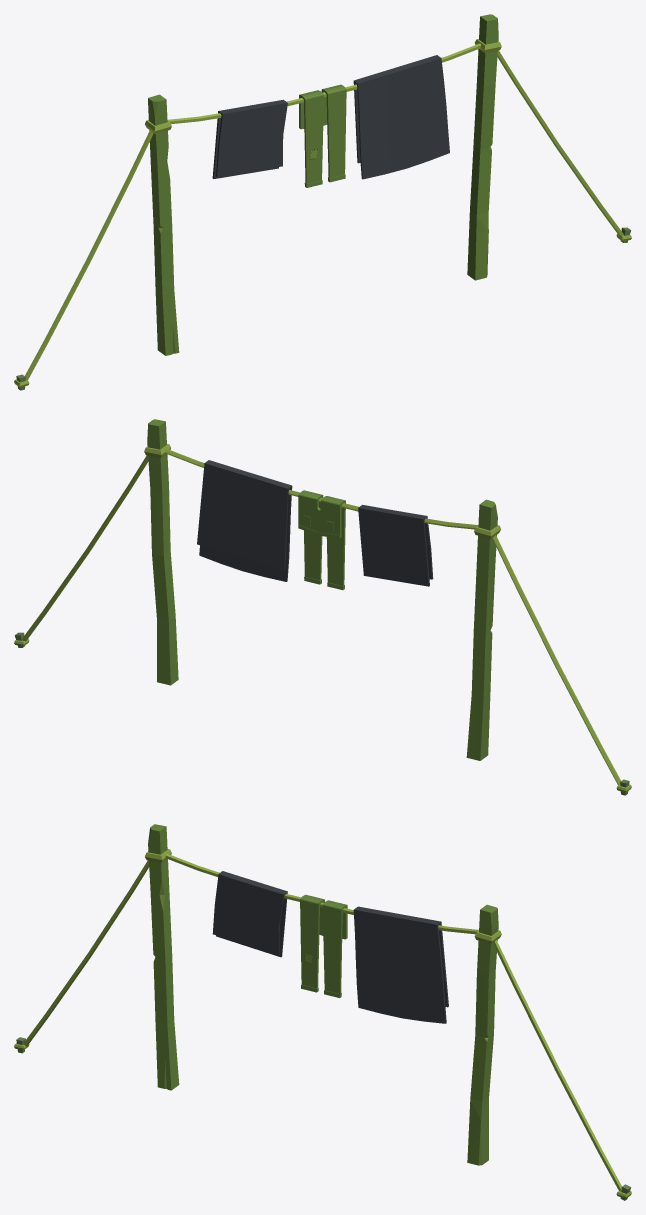
File: Dryer_01.fbx
3 views of the same model, one above another, from view 1: azimuth 30°, elevation 25°; view 2: azimuth 150°, elevation 25°; view 3: azimuth 330°, elevation 25° (orthographic).
Visible parts, largest first — view 1: Dryer_01; view 2: Dryer_01; view 3: Dryer_01.
Boxes of the visible parts, bbox=[...] form: Dryer_01: bbox=[14, 14, 631, 390]; Dryer_01: bbox=[14, 419, 631, 795]; Dryer_01: bbox=[14, 824, 631, 1200].
Size of the model in its own units: 5.02 by 2.02 by 0.1415.
